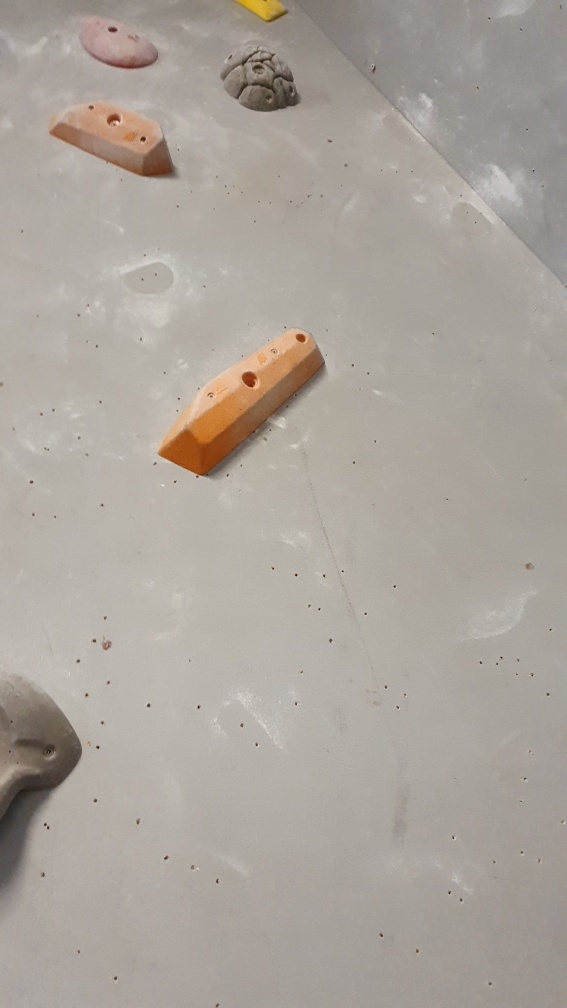Jug: (220, 43, 301, 115)
Pinch: (156, 327, 325, 474), (45, 98, 178, 179)
